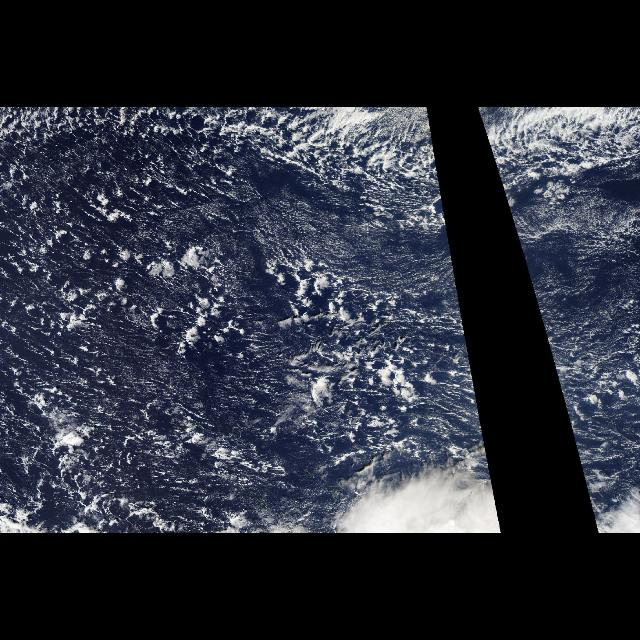Gravel: (9, 111, 439, 517)
Sugar: (498, 172, 640, 450), (230, 172, 462, 314), (467, 335, 488, 451)
